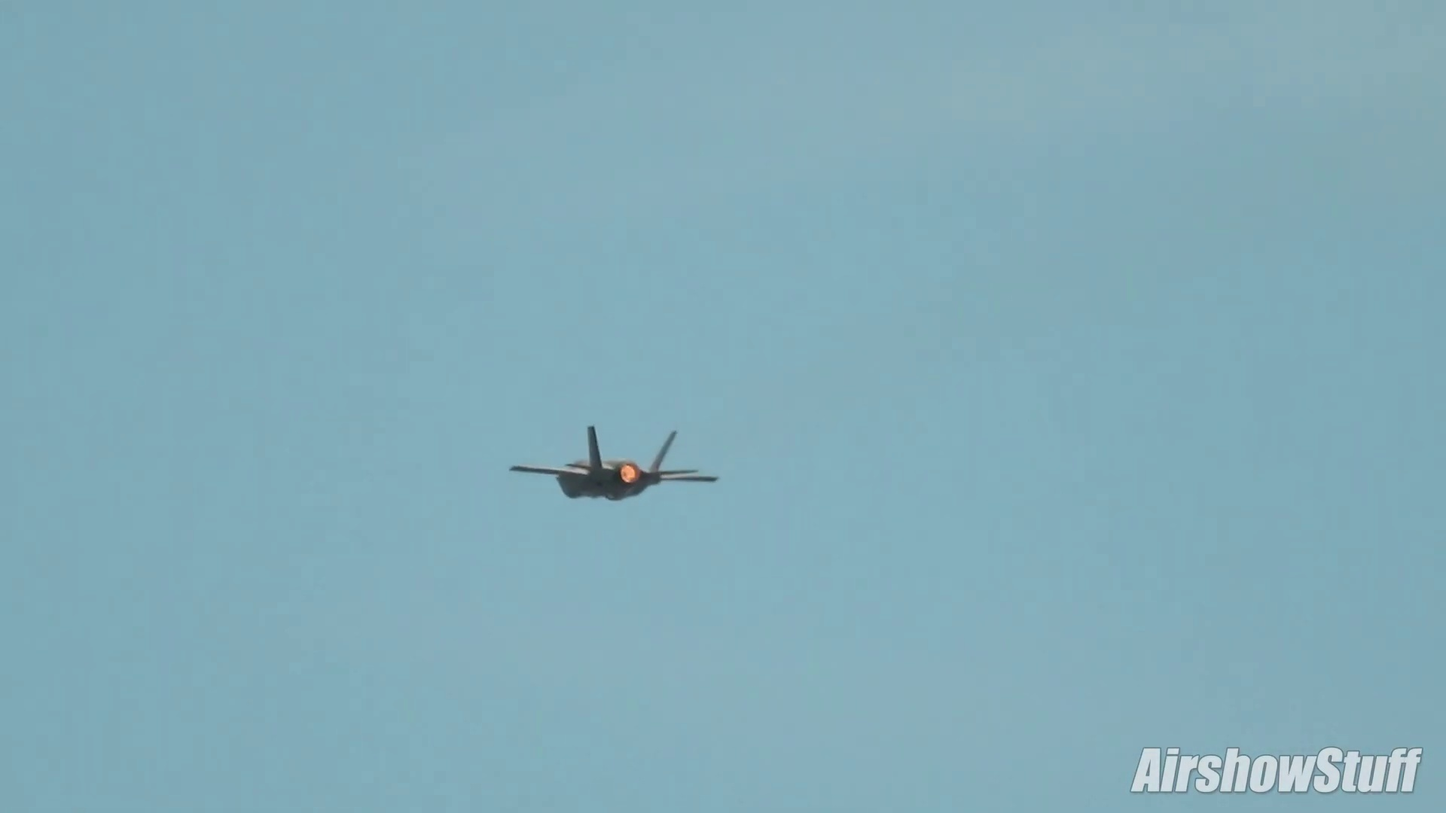F35: (503, 423, 721, 504)
